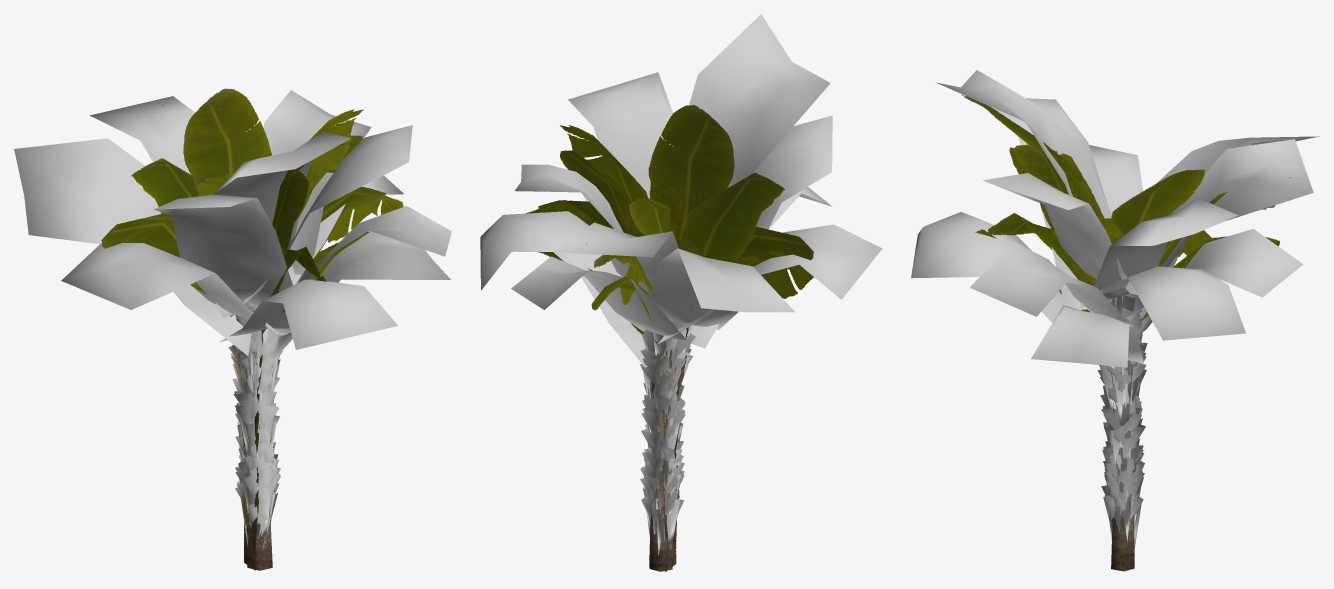
The model's file is Banana1.fbx.
3 views of the same model, side by side, from view 1: azimuth 30°, elevation 25°; view 2: azimuth 150°, elevation 25°; view 3: azimuth 270°, elevation 25° (orthographic). The views are drawn at different scales.
Parts seen in each view (by area): view 1: LOD0, Billboard; view 2: LOD0, Billboard; view 3: LOD0, Billboard.
Part boxes in pixels (x1,y1,x2,y2): LOD0: (14,90,451,570); Billboard: (101,88,403,570); LOD0: (480,14,882,571); Billboard: (525,105,813,571); LOD0: (911,70,1319,571); Billboard: (962,95,1290,440).
Size of what is drawn, in the model's own units: 308 by 411 by 317.
